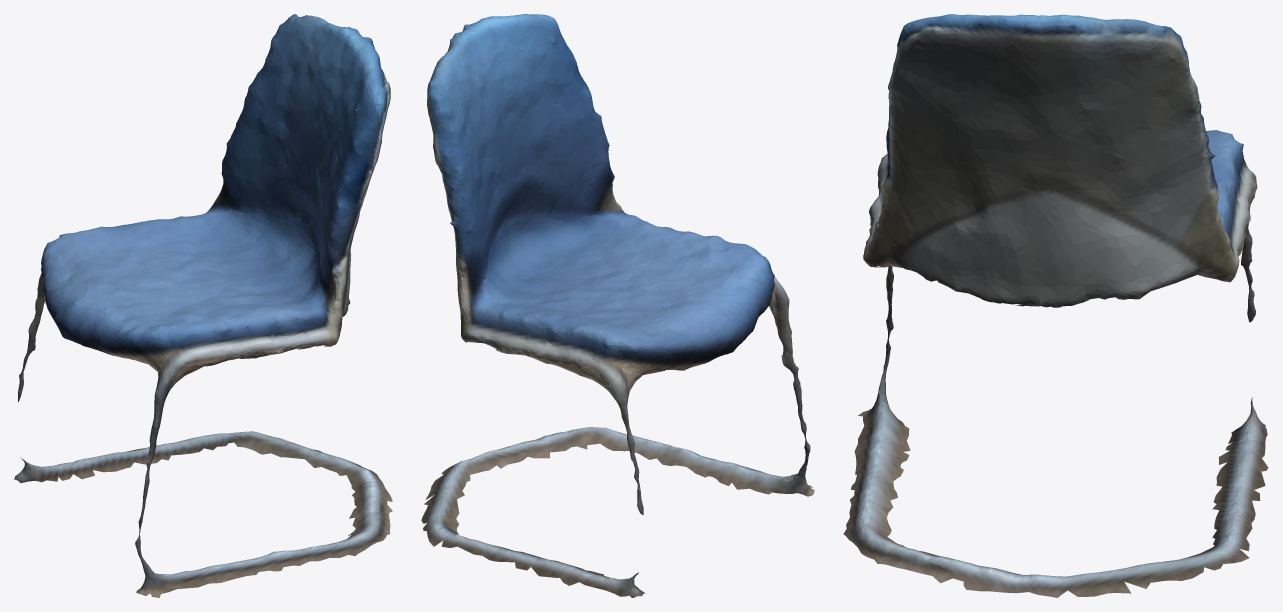
The model's file is photographchair.glb.
3 views of the same model, side by side, from view 1: azimuth 30°, elevation 25°; view 2: azimuth 150°, elevation 25°; view 3: azimuth 270°, elevation 25° (orthographic). The views are drawn at different scales.
Parts seen in each view (by area): view 1: mesh; view 2: mesh; view 3: mesh.
Part boxes in pixels (x1,y1,x2,y2): mesh: (14,14,392,597); mesh: (421,14,814,597); mesh: (843,14,1268,597).
Bounding box in the file's own units: 0.5631 × 0.794 × 0.5355.
Materials: 1 (1 with a texture image).
